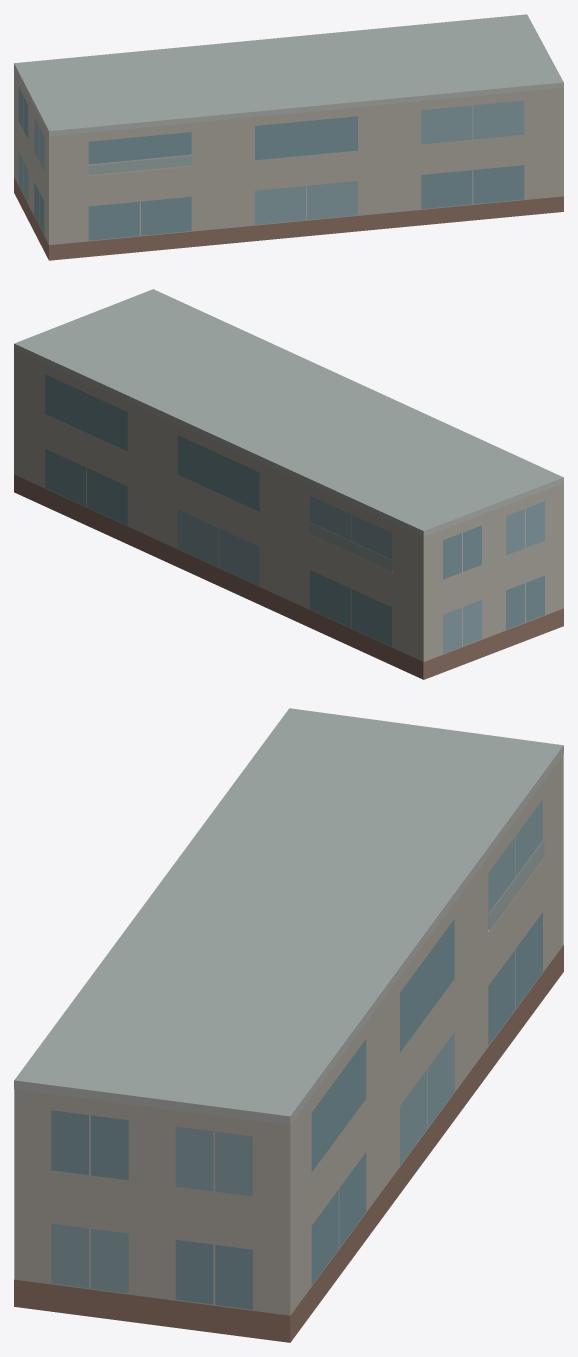
File: survey-upis-32905474.glb
The picture shows the model from 3 angles, top to bottom: view 1: azimuth 30°, elevation 25°; view 2: azimuth 150°, elevation 25°; view 3: azimuth 270°, elevation 25°; orthographic projection. The views are drawn at different scales.
Visible parts, largest first — view 1: survey-upis-32905474.tmp; view 2: survey-upis-32905474.tmp; view 3: survey-upis-32905474.tmp.
Part boxes in pixels (left/top/right/bottom): survey-upis-32905474.tmp: left=14, top=14, right=563, bottom=260; survey-upis-32905474.tmp: left=14, top=289, right=563, bottom=679; survey-upis-32905474.tmp: left=14, top=708, right=563, bottom=1342.
Size of the model in its own units: 23.6 by 6.1 by 13.43.
